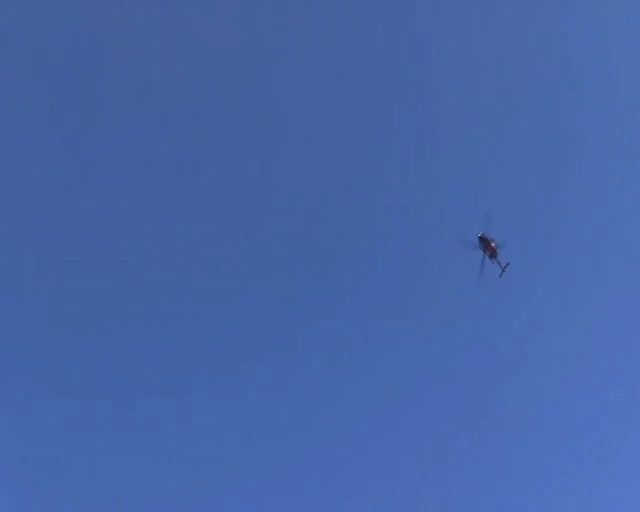HELICOPTER: (475, 229, 511, 278)
